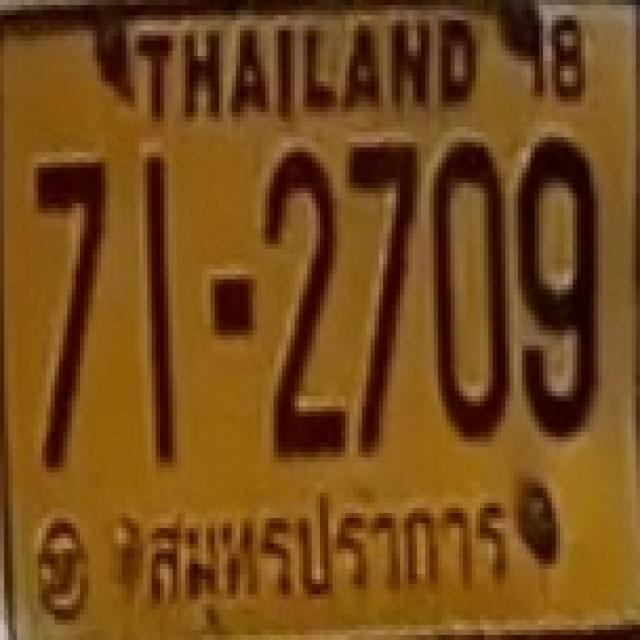0: (261, 145, 349, 457), (427, 136, 510, 440)
1: (137, 148, 174, 467)
7: (28, 158, 105, 474), (345, 140, 422, 454)
9: (514, 140, 598, 429)
SPK: (118, 472, 520, 622)
